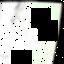Purslane: (0, 0, 64, 64)
